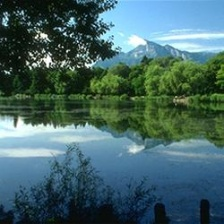neutral: (2, 1, 224, 222)
